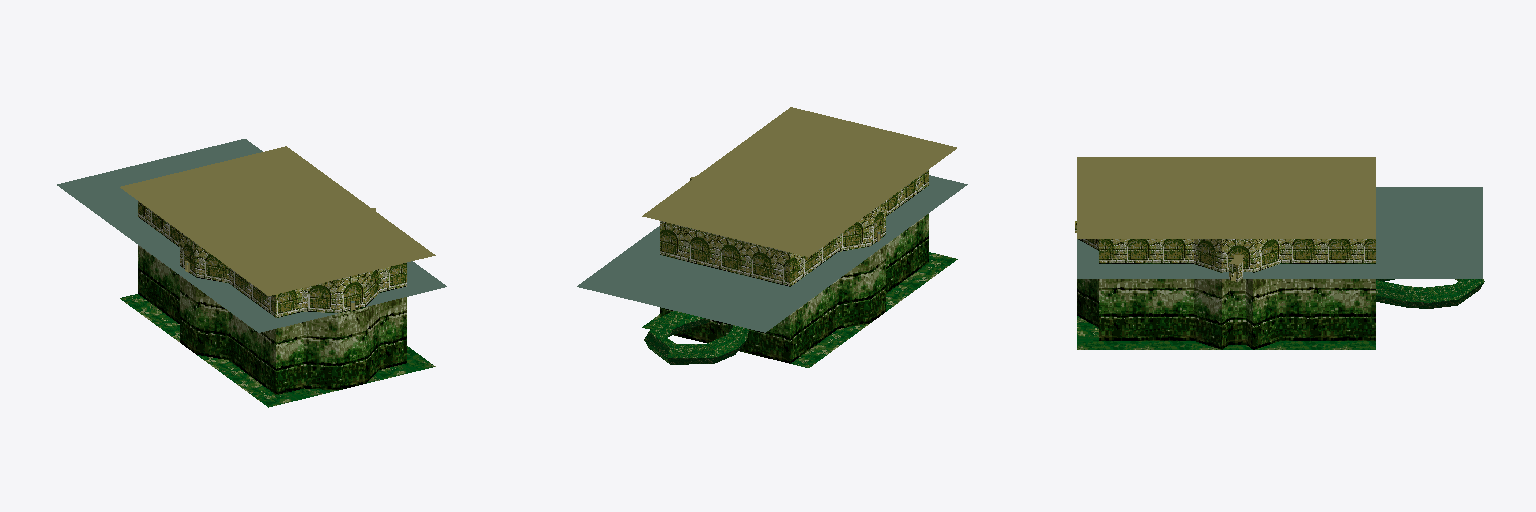
The picture shows the model from 3 angles: view 1: azimuth 30°, elevation 25°; view 2: azimuth 150°, elevation 25°; view 3: azimuth 270°, elevation 25°; orthographic projection.
Parts seen in each view (by area): view 1: mesh; view 2: mesh; view 3: mesh.
Boxes of the visible parts, x1,y1,x2,y2 form: mesh: [57, 139, 446, 407]; mesh: [577, 107, 967, 367]; mesh: [1075, 157, 1484, 349].
Size of the model in its own units: 2246 by 1210 by 4040.
7 materials, 4 textured.